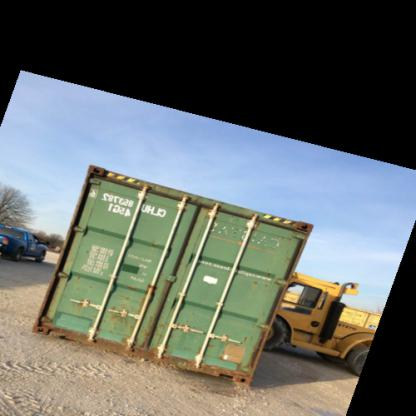Damage: (206, 220, 283, 253), (103, 302, 133, 342), (136, 311, 160, 352), (247, 275, 274, 293), (72, 291, 90, 311), (88, 164, 105, 184), (236, 327, 259, 337)
